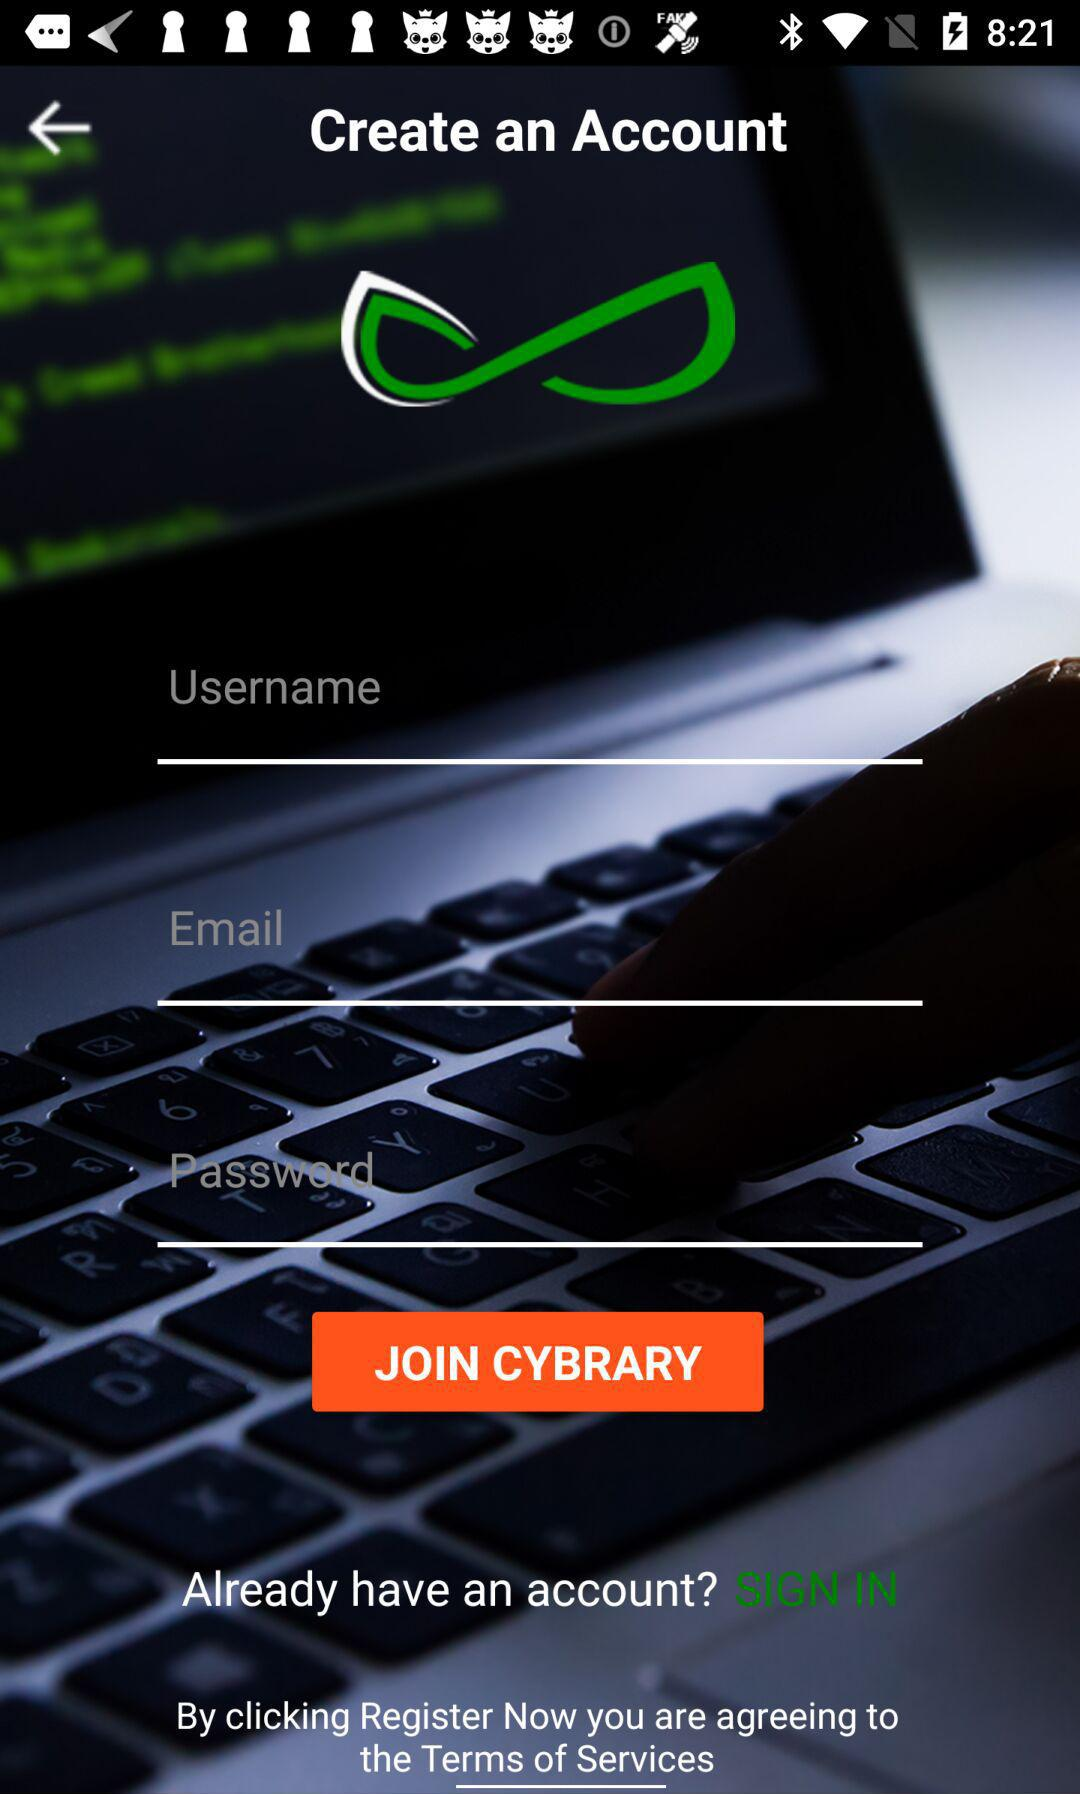BackgroundImage: (1, 67, 1080, 1794)
EditText: (158, 1149, 924, 1249), (158, 909, 924, 1007), (158, 670, 924, 766)
Icon: (27, 99, 94, 159)
Image: (340, 261, 737, 409)
Text: (177, 1700, 899, 1775), (182, 1568, 898, 1618), (311, 109, 788, 154), (170, 670, 380, 706)
TextButton: (313, 1311, 765, 1413)
UpperTaskBar: (1, 1, 1080, 67)
